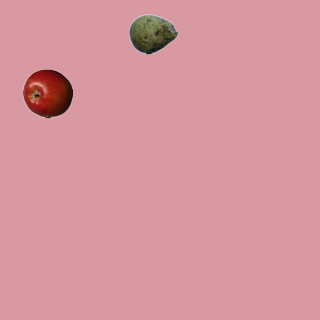Apple Braeburn: (22, 68, 72, 118)
Pear Stone: (128, 9, 178, 59)
